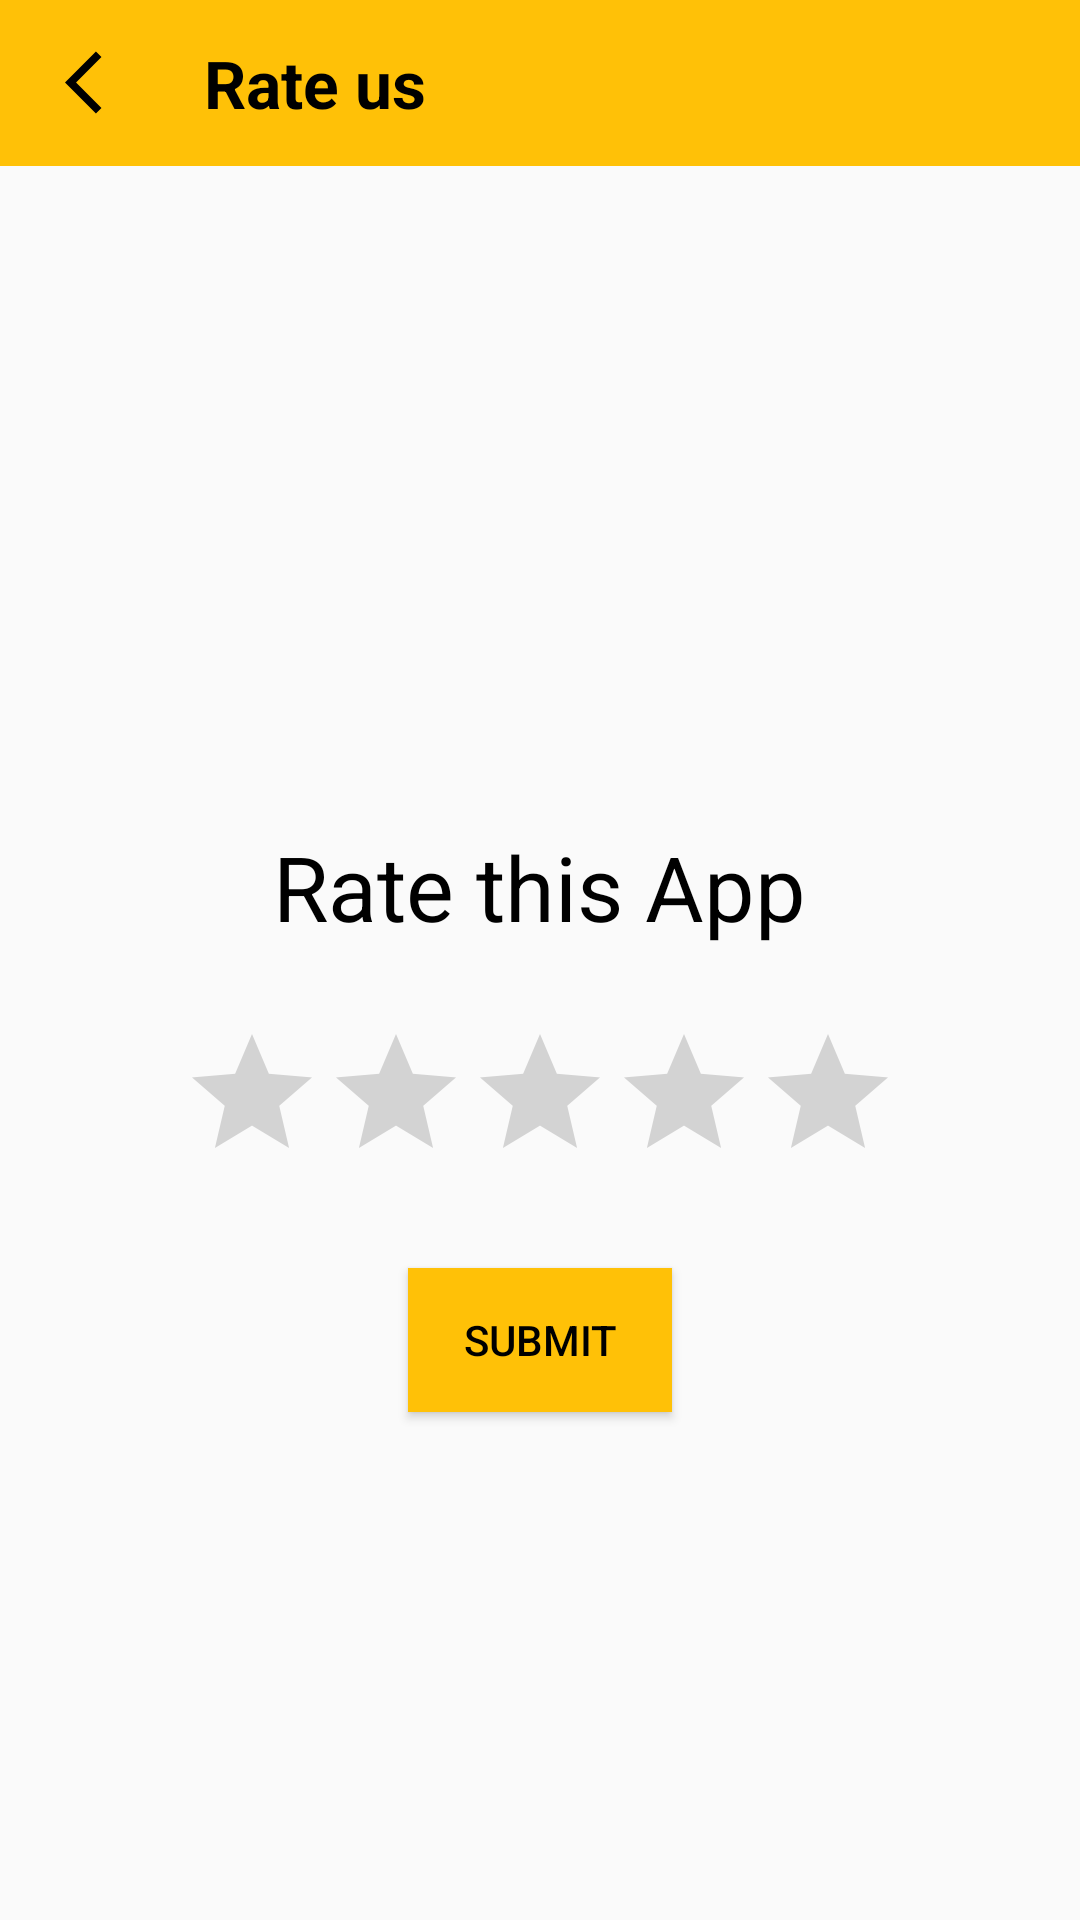

Screen size 1080px x 1920px. Icon name, then its center in pixels as [x,y]:
arrow back: [83,82]
